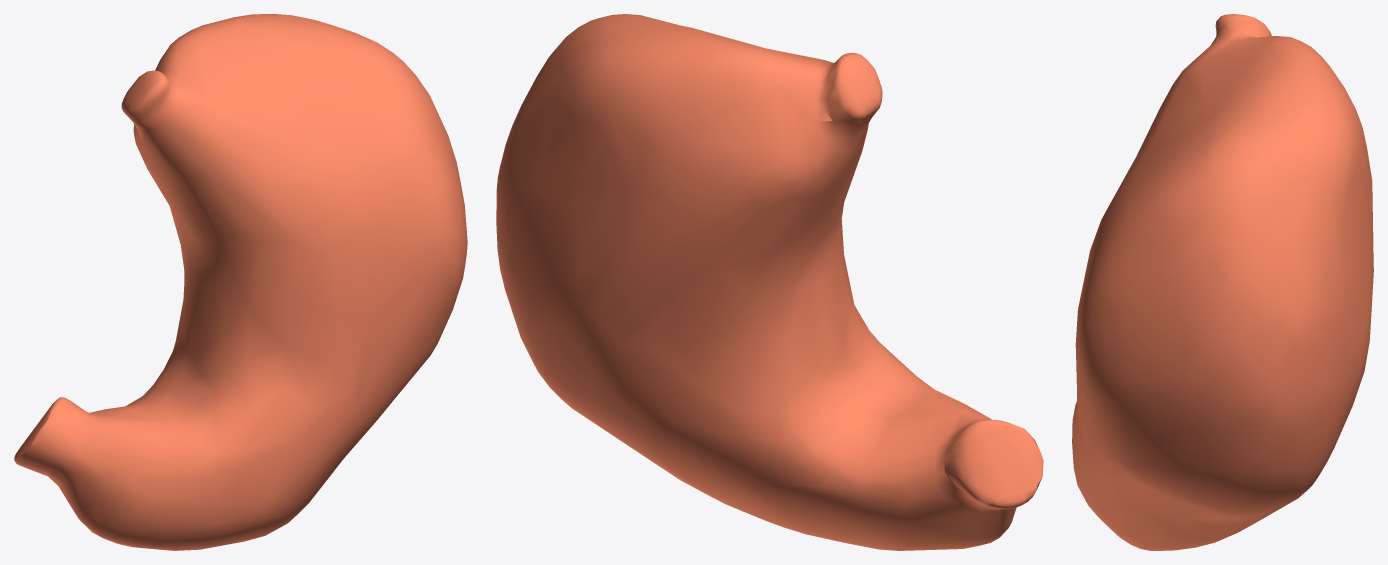
File: lambung.glb
3 views of the same model, side by side, from view 1: azimuth 30°, elevation 25°; view 2: azimuth 150°, elevation 25°; view 3: azimuth 270°, elevation 25° (orthographic). The views are drawn at different scales.
Parts seen in each view (by area): view 1: FJ563_BP4617_FMA7148_Stomach; view 2: FJ563_BP4617_FMA7148_Stomach; view 3: FJ563_BP4617_FMA7148_Stomach.
Boxes of the visible parts, left/top/right/bottom form: FJ563_BP4617_FMA7148_Stomach: left=14, top=14, right=467, bottom=550; FJ563_BP4617_FMA7148_Stomach: left=496, top=14, right=1043, bottom=550; FJ563_BP4617_FMA7148_Stomach: left=1072, top=14, right=1373, bottom=550.
Size of the model in its own units: 0.3702 by 0.3645 by 0.1972.
